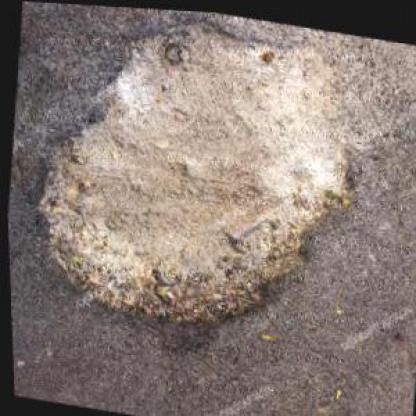pothole: (11, 0, 393, 383)
